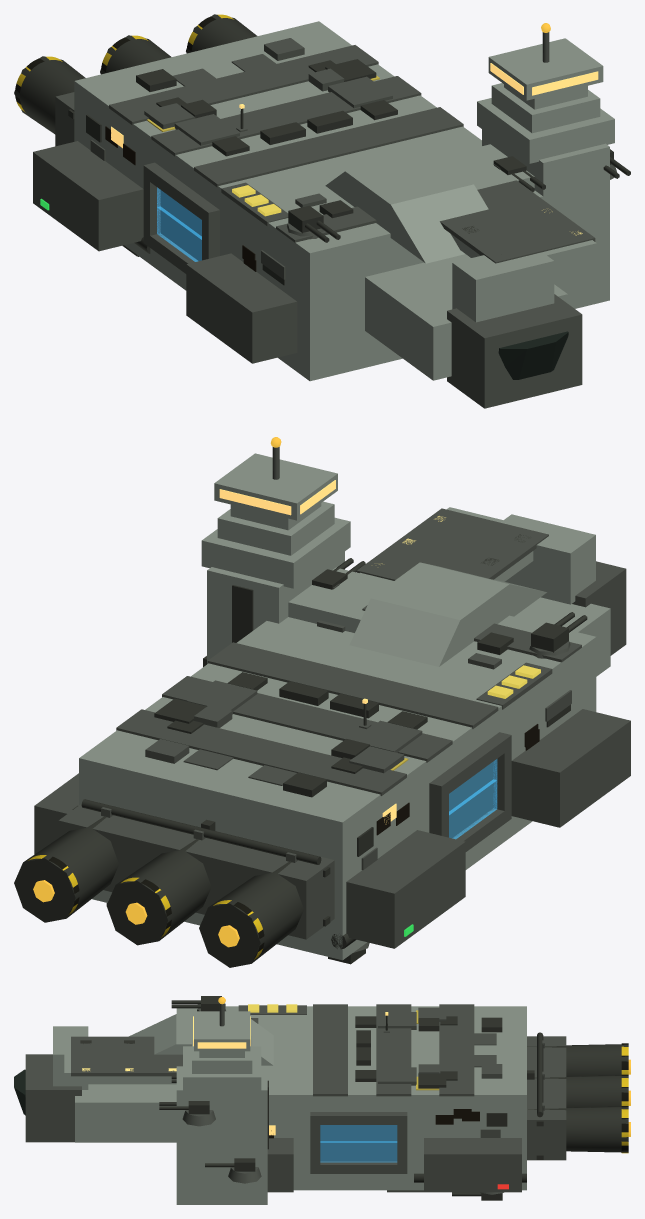
Rendered from capital-s(4).glb.
3 renders of one model, top to bottom at view 1: azimuth 30°, elevation 25°; view 2: azimuth 150°, elevation 25°; view 3: azimuth 270°, elevation 25°, orthographic. The views are drawn at different scales.
Parts seen in each view (by area): view 1: hullMain, canopyFairing, hullNoseTip, sidePod0L, sidePod1L, hullNose, outriggerPylon, towerBridgeRail, hullPanelLine0, towerBridgeStep, engineHousing (×3), hullPanelLine2 (+28 smaller); view 2: hullMain, engineHousing (×3), canopyFairing, engineBayExtension, sidePod0L, sidePod1L, towerBridgeRail, hullPanelLine0, hullPanelLine2, controlTerrace0, towerBridgeStep, hullPanelLine1 (+29 smaller); view 3: hullMain, outriggerPylon, engineHousing (×3), hullNose, sidePod1R, engineBayExtension, towerBridgeRail, hullNoseTip, hullPanelLine0, hullPanelLine2, dockingChamberStarboard, canopyFairing (+28 smaller).
Boxes of the visible parts, <box> form: hullMain: <box>74,21,553,381</box>; canopyFairing: <box>325,151,488,263</box>; hullNoseTip: <box>447,294,582,408</box>; sidePod0L: <box>186,253,297,363</box>; sidePod1L: <box>33,141,143,251</box>; hullNose: <box>365,254,567,380</box>; outriggerPylon: <box>482,129,609,308</box>; towerBridgeRail: <box>440,180,595,263</box>; hullPanelLine0: <box>194,107,463,187</box>; towerBridgeStep: <box>452,253,554,322</box>; engineHousing (×3): <box>14,14,257,134</box>; hullPanelLine2: <box>109,45,378,125</box>; hullMain: <box>79,615,596,960</box>; engineHousing (×3): <box>14,816,303,967</box>; canopyFairing: <box>349,562,546,666</box>; engineBayExtension: <box>58,804,334,939</box>; sidePod0L: <box>511,709,630,827</box>; sidePod1L: <box>346,830,465,948</box>; towerBridgeRail: <box>357,508,548,580</box>; hullPanelLine0: <box>207,642,498,728</box>; hullPanelLine2: <box>116,709,406,795</box>; controlTerrace0: <box>201,517,350,588</box>; towerBridgeStep: <box>501,514,595,604</box>; hullPanelLine1: <box>162,676,452,762</box>; hullMain: <box>176,1006,526,1190</box>; outriggerPylon: <box>176,1066,267,1204</box>; engineHousing (×3): <box>527,1044,628,1152</box>; hullNose: <box>75,1084,176,1142</box>; sidePod1R: <box>424,1138,521,1192</box>; engineBayExtension: <box>527,1036,566,1160</box>; towerBridgeRail: <box>71,1036,182,1076</box>; hullNoseTip: <box>25,1054,81,1142</box>; hullPanelLine0: <box>313,1004,347,1096</box>; hullPanelLine2: <box>439,1004,474,1096</box>; dockingChamberStarboard: <box>320,1125,397,1161</box>; canopyFairing: <box>129,1014,273,1065</box>.
Bounding box in the file's own units: 4.51 × 3.58 × 8.8.
